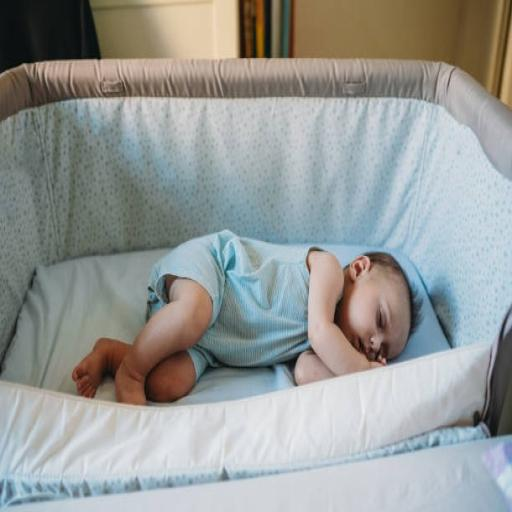baby: (73, 231, 419, 403)
crib: (0, 60, 511, 504)
